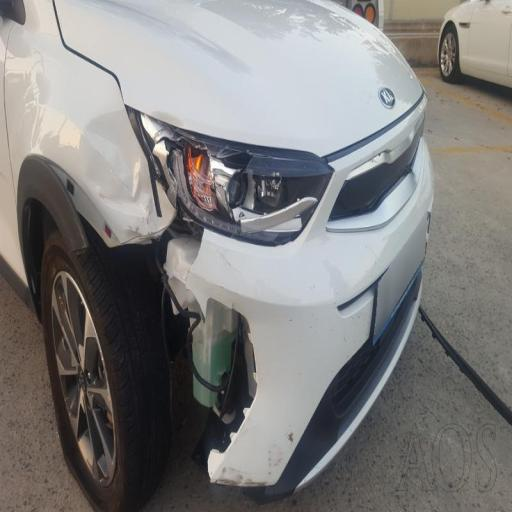broken: (85, 86, 314, 512)
